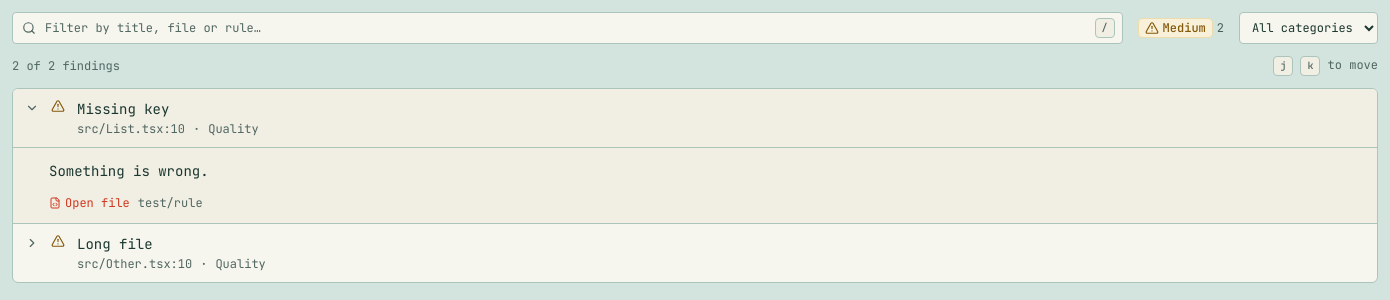
FindingsPanel › filters by search across title, file and rule id
Type "List.tsx" into the field named "Filter findings" at (567, 28), box [12,12,1123,44]
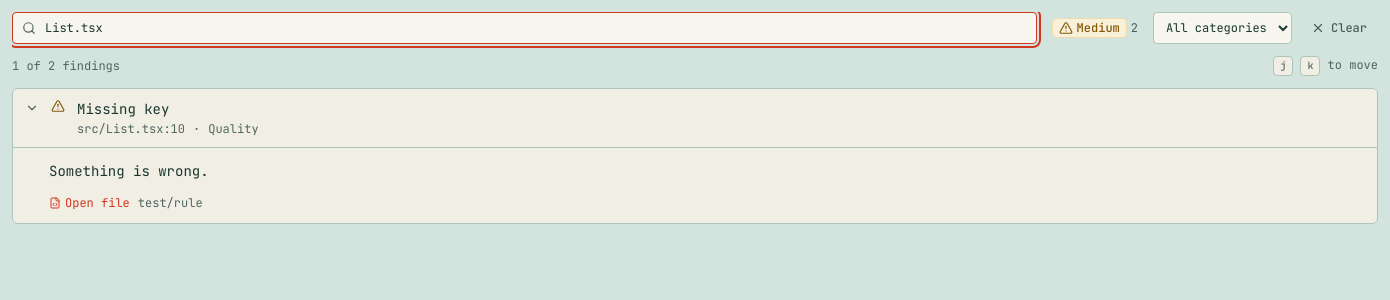
Expected: the text "Missing key" is shown, [77,100,169,118]
Result: the button "Long file" is gone
Result: the text "1 of 2 findings" is shown at [12,58,120,74]
